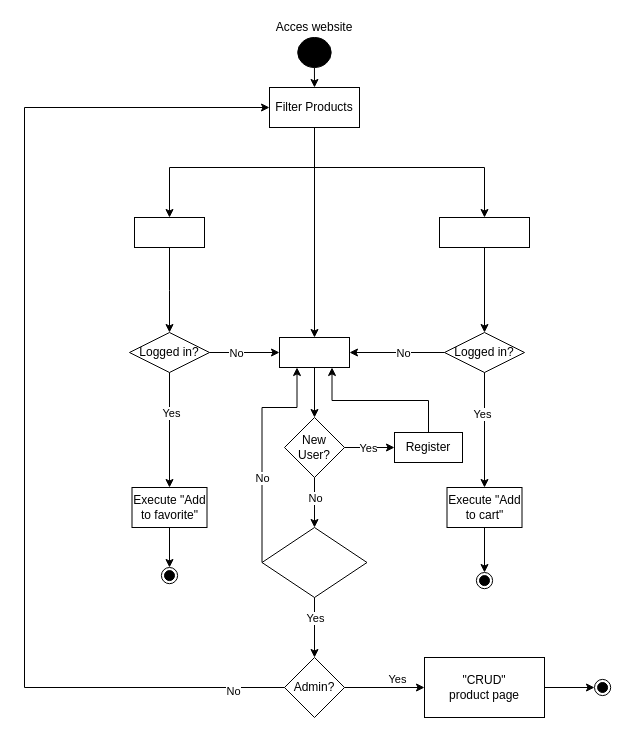
Some shapes in this 629 by 735 pixel diagram are drawn without their labels. The centre of each missing label's shape, as x and y in pixels:
Add to cart: the point at 484,232
Add to favorite: the point at 169,232
Correct credentials?: the point at 314,562
Login: the point at 314,352
